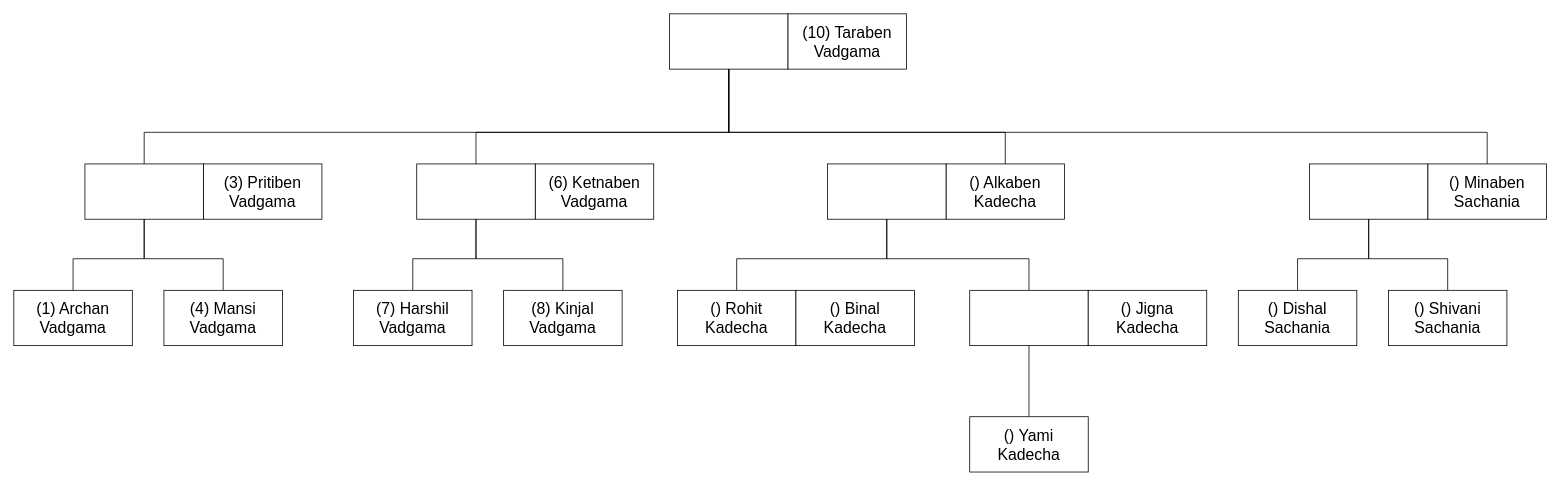
Image size: 1560x486. Some labels were removed from this diagram. Here are the shapes that lost their labels. From the top down, the centre of each, then its label:
At pixel 728 41: "(9) Dayaljibhai Vadgama".
At pixel 143 191: "(2) Dipakbhai Vadgama".
At pixel 475 191: "(5) Kiritbhai Vadgama".
At pixel 886 191: "() Shaileshbhai Kadecha".
At pixel 1368 191: "() Jitendrabhai Sachania".
At pixel 1028 318: "() Pratik Kadecha".
